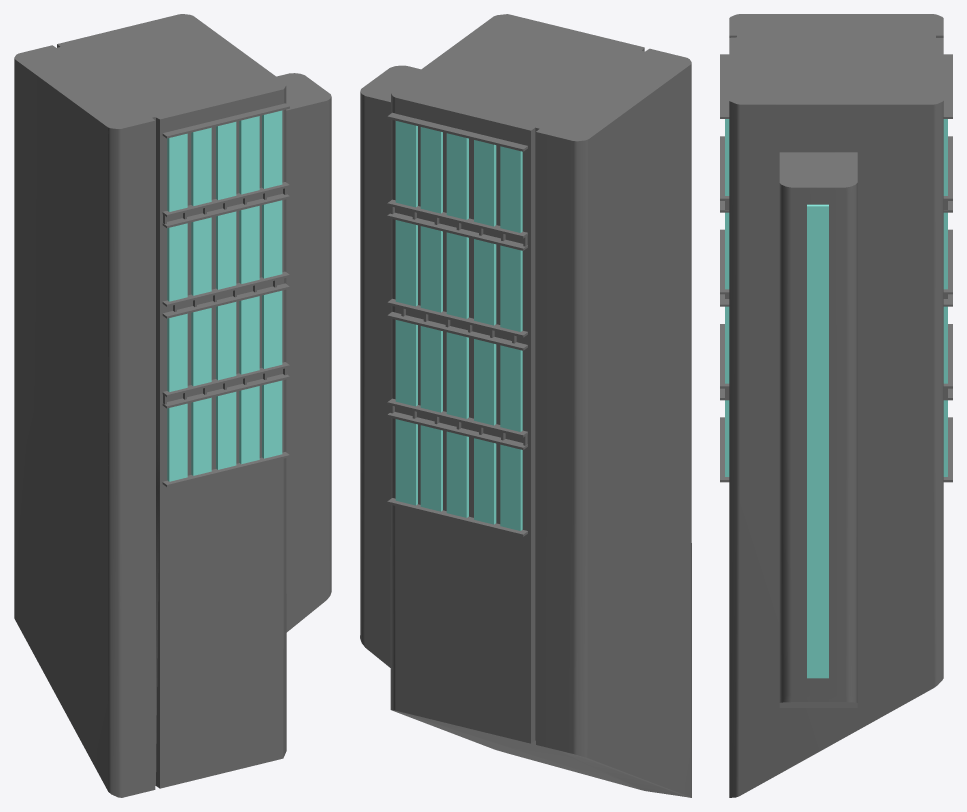
Rendered from Building_UV_0014.obj.
The picture shows the model from 3 angles, left to right: view 1: azimuth 30°, elevation 25°; view 2: azimuth 150°, elevation 25°; view 3: azimuth 270°, elevation 25°; orthographic projection. The views are drawn at different scales.
Visible parts, largest first — view 1: Building_UV_00014; view 2: Building_UV_00014; view 3: Building_UV_00014.
Boxes of the visible parts, x1,y1,x2,y2 form: Building_UV_00014: [14, 14, 331, 797]; Building_UV_00014: [360, 14, 691, 797]; Building_UV_00014: [720, 14, 952, 797].
Size of the model in its own units: 1129 by 2874 by 869.
